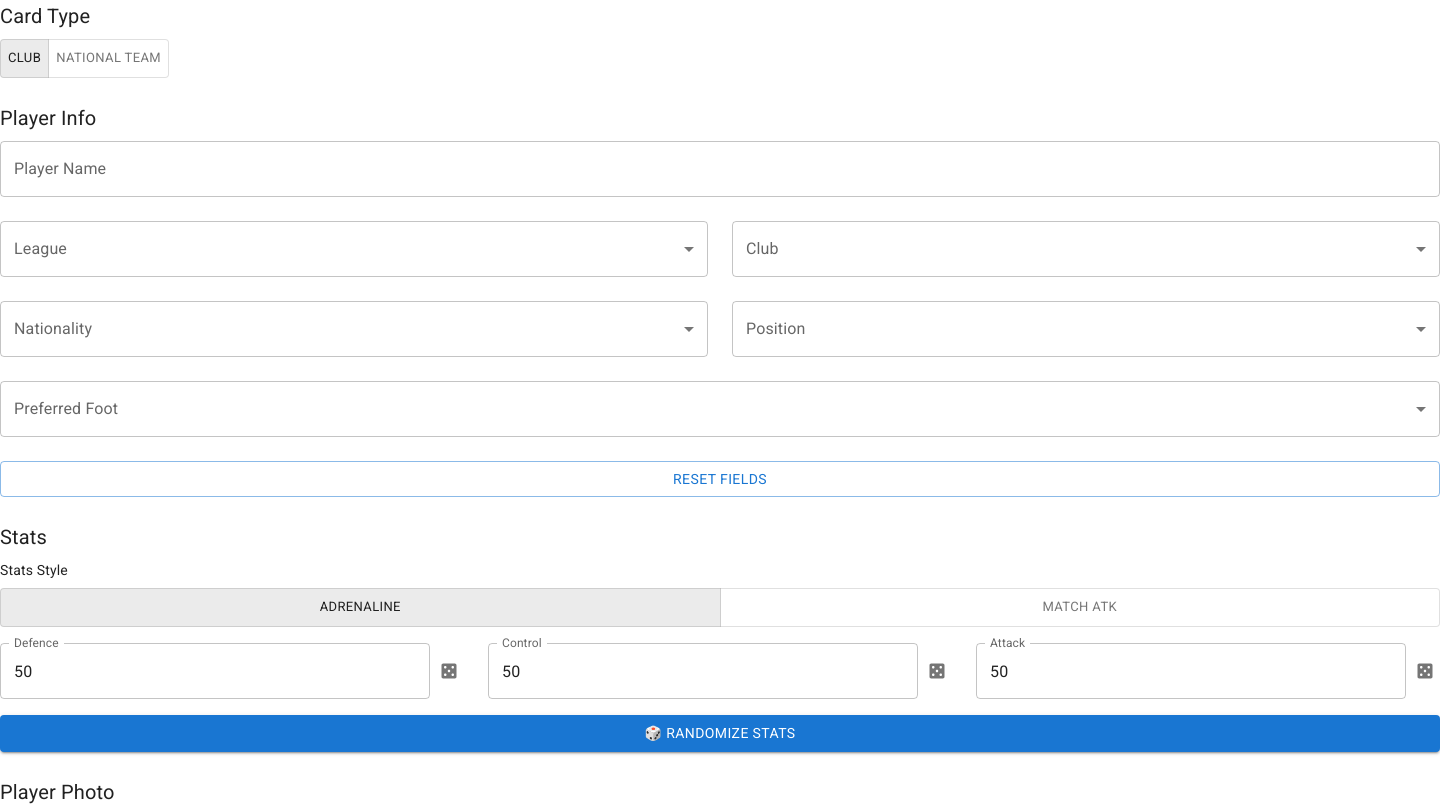
Test: CardForm Component › shows validation error when saving without player name
This screenshot has width=1440, height=810.
Clear the field labelled "Player Name" at (720, 169), box left=0, top=141, right=1439, bottom=197
(page scrolled)
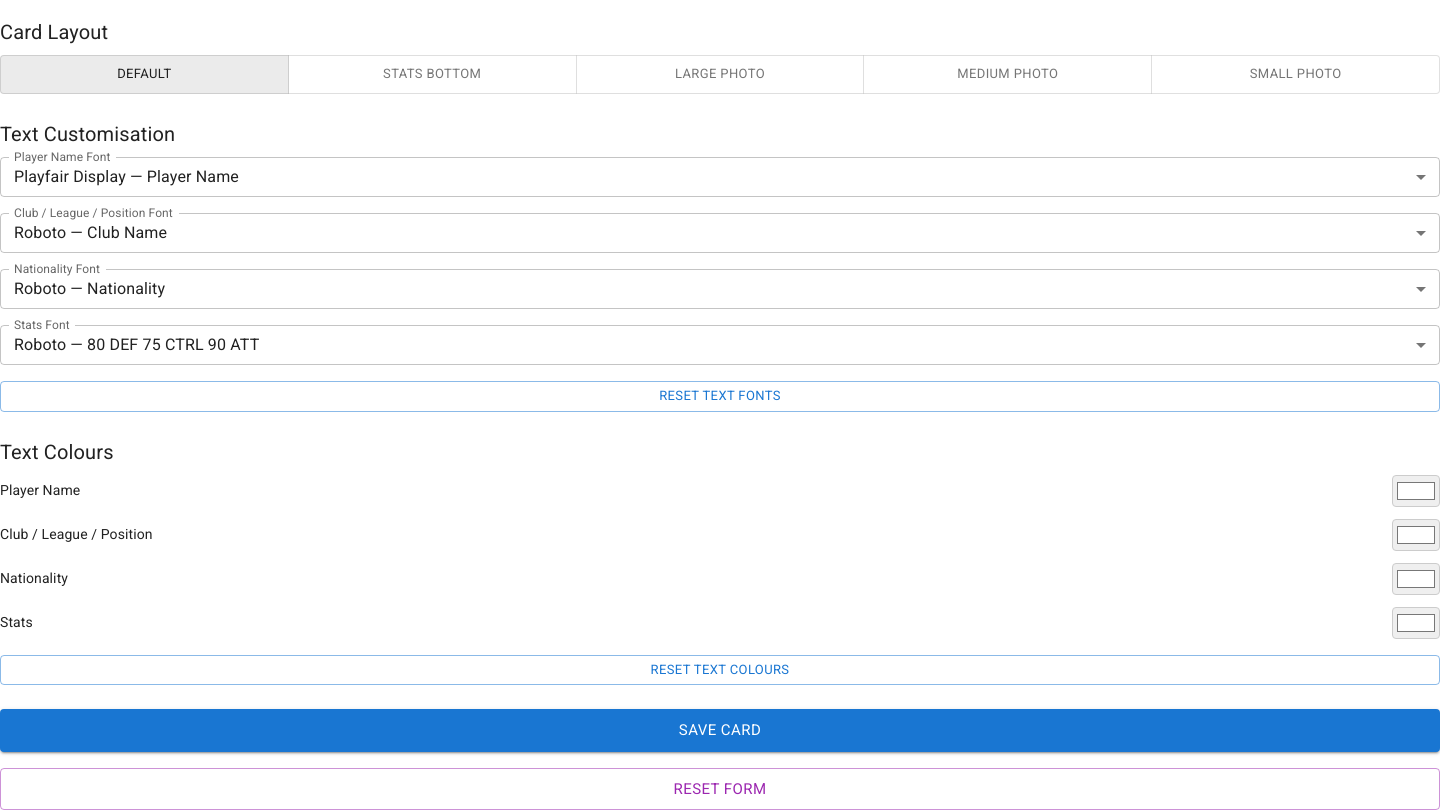
Click the button "Save Card".
click(720, 731)  # box left=0, top=709, right=1439, bottom=752
(page scrolled)
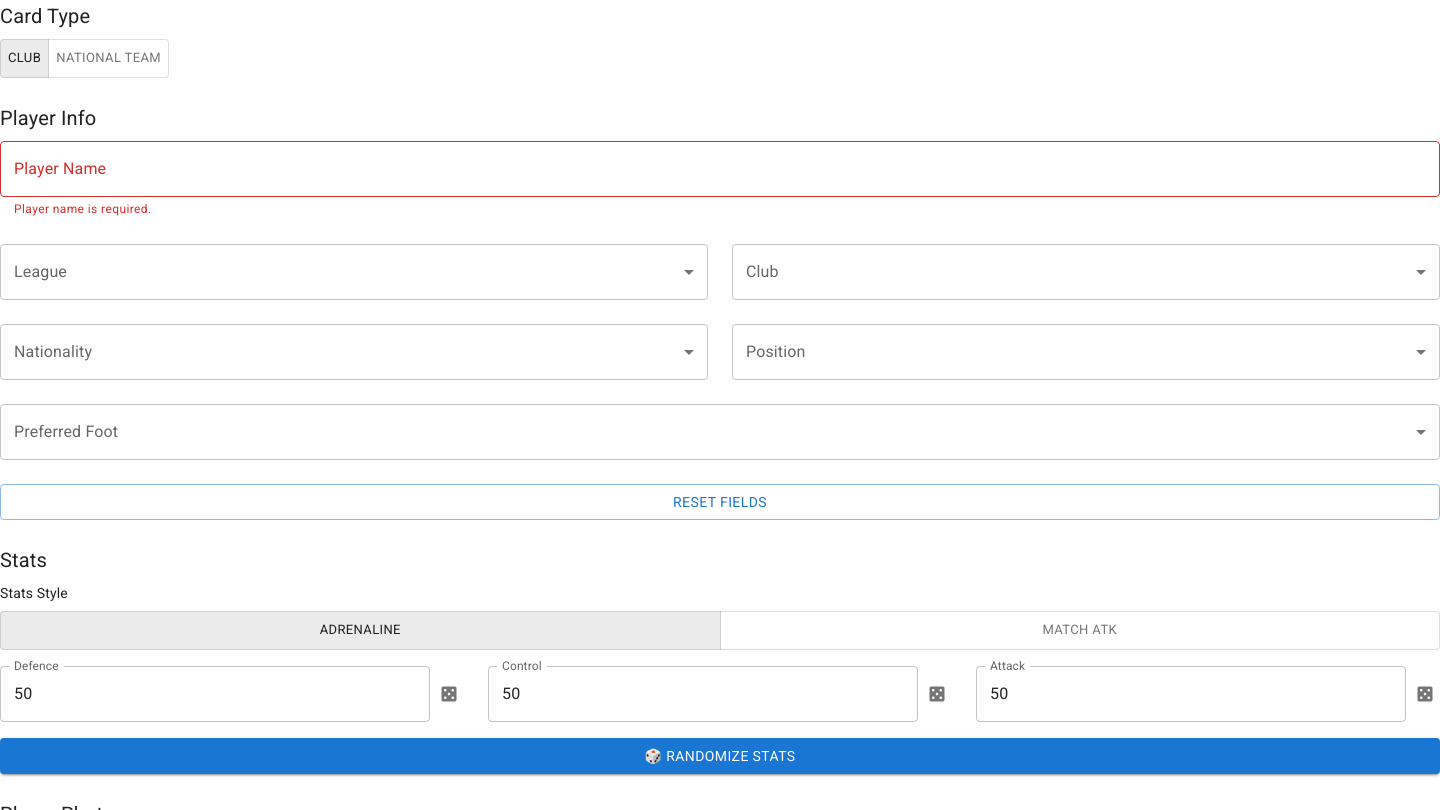
Result: the text "Player name is required." is shown at left=14, top=202, right=152, bottom=216
